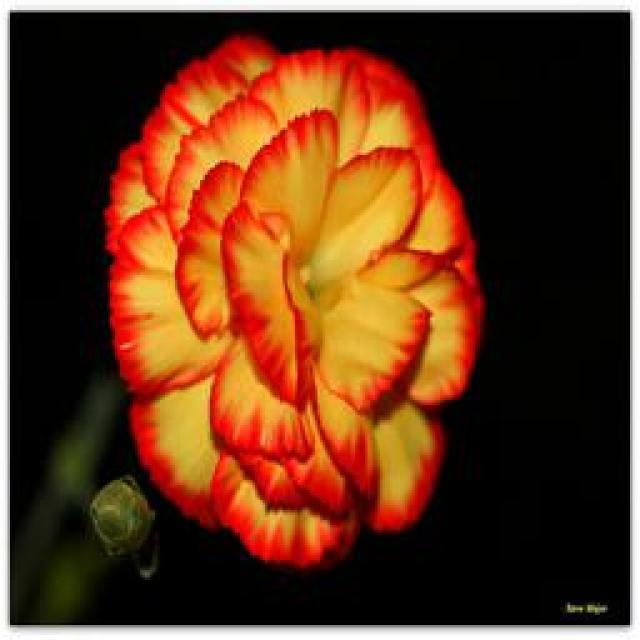carnation: (85, 19, 519, 573)
